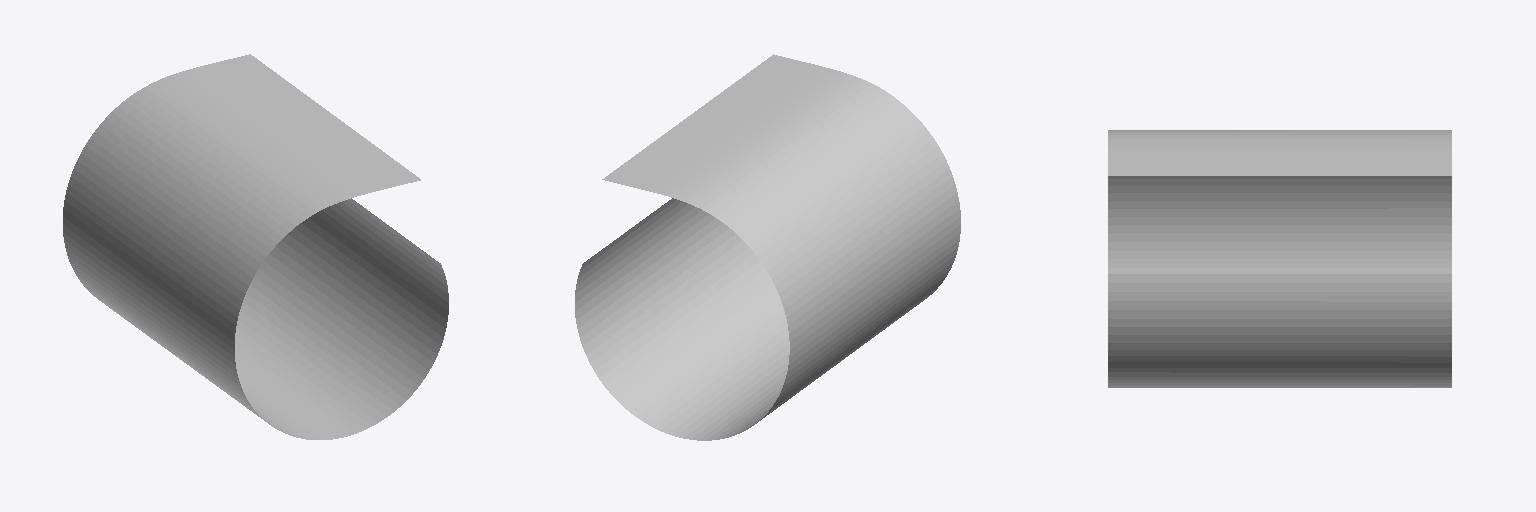
Rendered from CurvePaper_000015.obj.
3 renders of one model, left to right at view 1: azimuth 30°, elevation 25°; view 2: azimuth 150°, elevation 25°; view 3: azimuth 270°, elevation 25°, orthographic.
Parts seen in each view (by area): view 1: Plane; view 2: Plane; view 3: Plane.
Boxes of the visible parts, x1=… form: Plane: x1=63, y1=54, x2=448, y2=439; Plane: x1=575, y1=54, x2=960, y2=440; Plane: x1=1108, y1=130, x2=1451, y2=387.
Bounding box in the file's own units: 1.64 × 1.74 × 2.26.